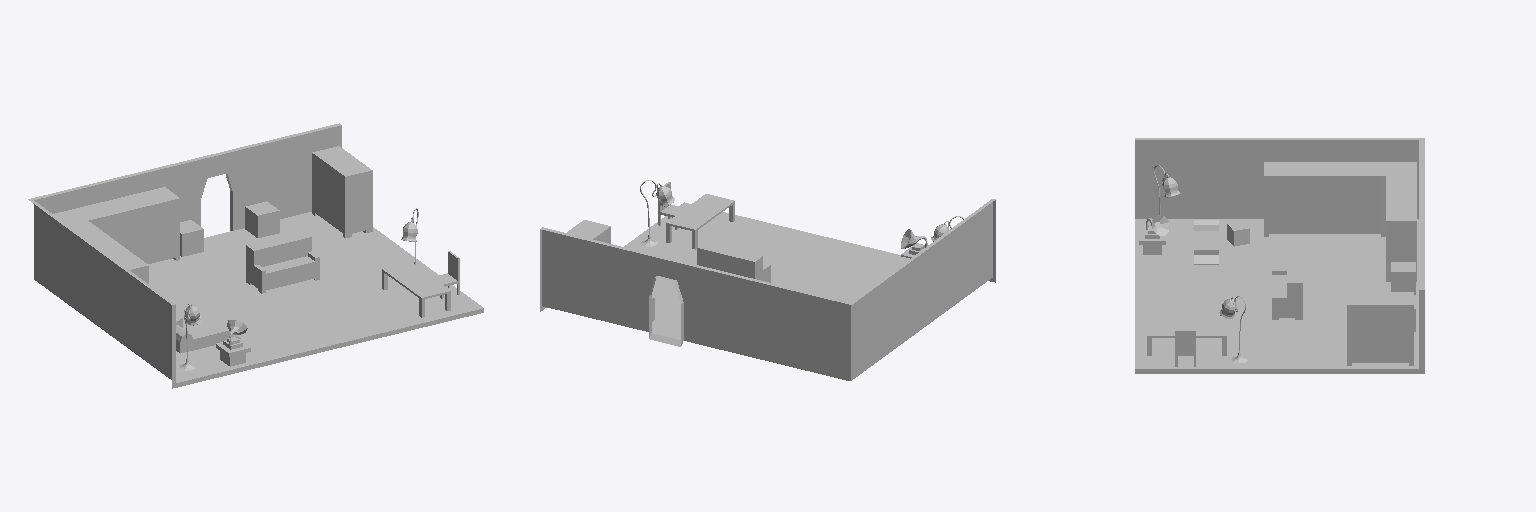
File: biblioteca.obj
3 renders of one model, left to right at view 1: azimuth 30°, elevation 25°; view 2: azimuth 150°, elevation 25°; view 3: azimuth 270°, elevation 25°, orthographic.
Parts seen in each view (by area): view 1: Plane.003; view 2: Plane.003; view 3: Plane.003.
Boxes of the visible parts, box(x1,y1,x2,y2) form: Plane.003: box(28, 123, 483, 388); Plane.003: box(540, 180, 995, 380); Plane.003: box(1135, 138, 1424, 373).
Size of the model in its own units: 7.63 by 1.95 by 6.12.